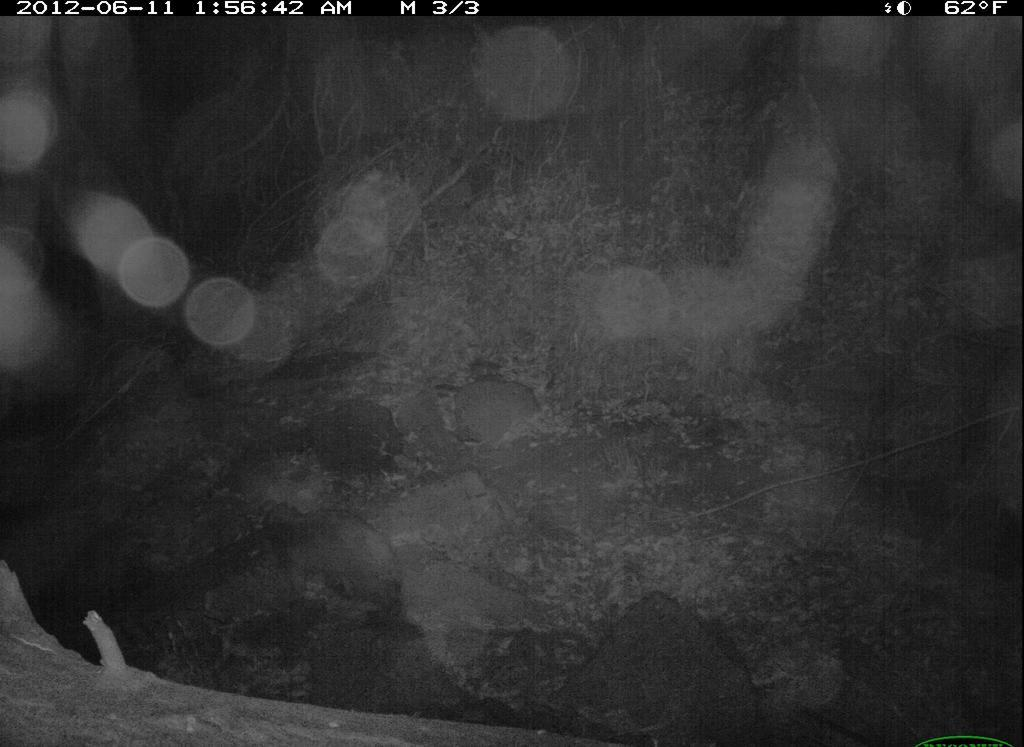raccoon: (252, 497, 410, 626)
